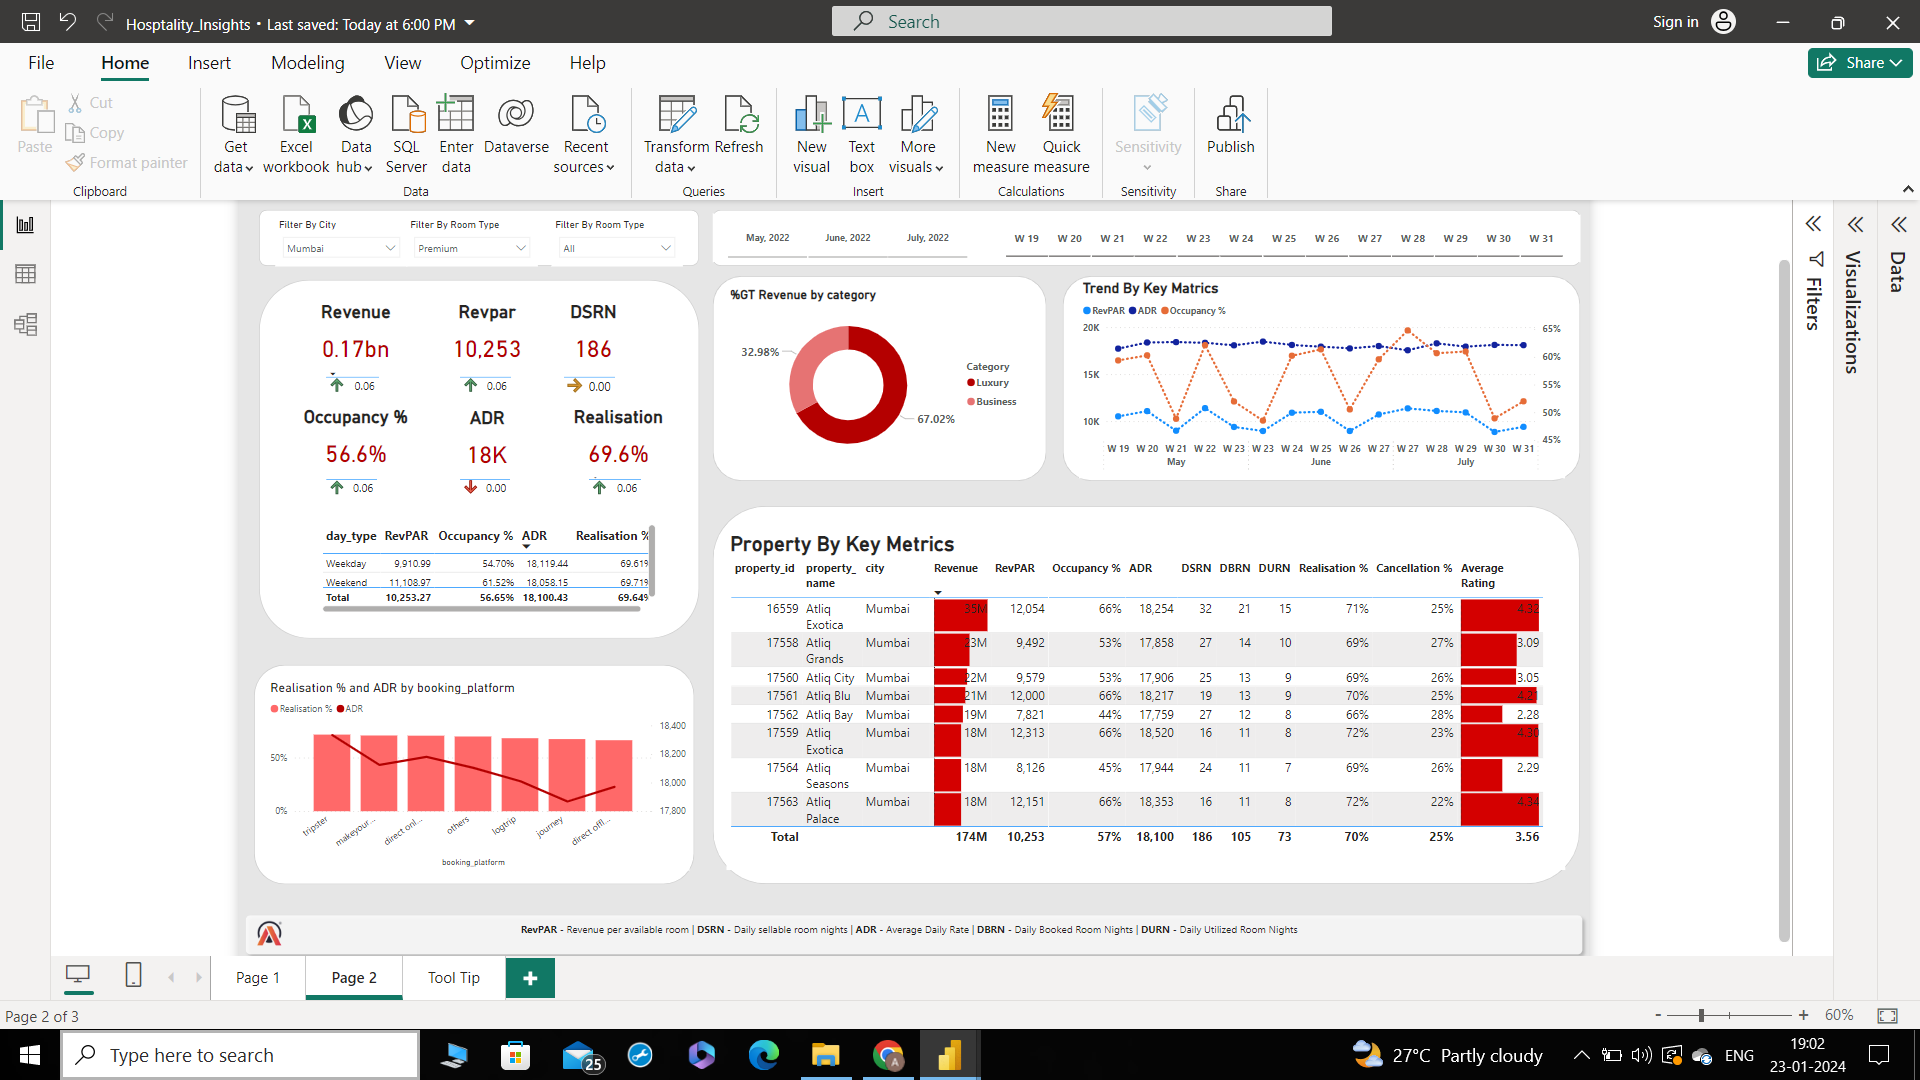

Layout of this report page (visuals, bound fields, positions):
{"tool":"powerbi","page":{"name":"Page 2","canvas":[1800,1100],"ordinal":1},"visuals":[{"type":"shape","box":[0,1016,1800,70],"z":0},{"type":"shape","box":[20,691.4,587.1,292.9],"z":1000},{"type":"shape","box":[632,480,1156,504],"z":2000},{"type":"shape","box":[1098.3,173.3,690,273.3],"z":3000},{"type":"shape","box":[631.7,173.3,445,273.3],"z":4000},{"type":"shape","box":[631.7,85,1156.7,75],"z":5000},{"type":"shape","box":[27.1,178.6,587.1,478.6],"z":6000},{"type":"shape","box":[26.7,85,586.7,75],"z":7000},{"type":"tableEx","title":"Property By Key Metrics","fields":{"Values":["dim_hotels.property_id","dim_hotels.property_name","dim_hotels.city","key_measures (2).Revenue","key_measures (2).RevPAR","key_measures (2).Occupancy %","key_measures (2).ADR","key_measures (2).DSRN","key_measures (2).DBRN","key_measures (2).DURN","key_measures (2).Realisation %","key_measures (2).Cancellation %"]},"box":[650,515.7,1118.6,450],"z":8000},{"type":"slicer","title":"Filter By City","fields":{"Values":["dim_hotels.city"]},"box":[48,96,176,64],"z":9000},{"type":"slicer","title":"Filter By Room Type","fields":{"Values":["dim_rooms.room_class"]},"box":[417,96,175,64],"z":10000},{"type":"slicer","fields":{"Values":["dim_date.mmm yy"]},"box":[631.7,90,358.3,65],"z":11000},{"type":"slicer","fields":{"Values":["dim_date.week no"]},"box":[996.7,91.7,791.7,63.3],"z":12000},{"type":"tableEx","fields":{"Values":["key_measures (2).\"Revenue WoW change %"]},"box":[110.8,281.5,88.5,57.7],"z":13000},{"type":"donutChart","fields":{"Category":["dim_hotels.category"],"Y":["key_measures (2).Revenue"]},"box":[650,188.3,405,241.7],"z":14000},{"type":"lineStackedColumnComboChart","fields":{"Category":["fact_bookings.booking_platform"],"Y":["key_measures (2).Realisation %"],"Y2":["key_measures (2).ADR"]},"box":[37.1,711.4,564.3,254.3],"z":15000},{"type":"lineChart","title":"Trend By Key Matrics","fields":{"Category":["dim_date.mmm yy.Variation.Date Hierarchy.Month","dim_date.week no"],"Y2":["key_measures (2).Occupancy %"],"Y":["key_measures (2).RevPAR","key_measures (2).ADR"]},"box":[1120,178.3,648.3,265],"z":16000},{"type":"tableEx","fields":{"Values":["dim_date.day_type","key_measures (2).RevPAR","key_measures (2).Occupancy %","key_measures (2).ADR","key_measures (2).Realisation %"]},"box":[105,500,455,126.7],"z":17000},{"type":"slicer","title":"Filter By Room Type","fields":{"Values":["dim_rooms.room_class"]},"box":[224,96,175,64],"z":18000},{"type":"image","box":[0,1028,81.3,42.7],"z":20000},{"type":"textbox","box":[345,1029.6,1093.6,39],"z":21000},{"type":"tableEx","fields":{"Values":["key_measures (2).\"DSRN WoW change %"]},"box":[426.9,281.5,88.5,56.2],"z":22000},{"type":"tableEx","fields":{"Values":["key_measures (2).\"Revpar WoW change %"]},"box":[287.7,281.5,89.2,55.4],"z":23000},{"type":"card","title":"DSRN","fields":{"Values":["key_measures (2).DSRN"]},"box":[384.3,206.8,175,95],"z":24000},{"type":"card","title":"Revpar","fields":{"Values":["key_measures (2).RevPAR"]},"box":[242.7,206.5,175,95],"z":25000},{"type":"card","title":"Revenue","fields":{"Values":["key_measures (2).Revenue"]},"box":[67.7,206.5,175,95],"z":26000},{"type":"tableEx","fields":{"Values":["key_measures (2).\"Occupancy WoW change %"]},"box":[110.8,417.7,88.5,57.7],"z":27000},{"type":"card","title":"Occupancy %","fields":{"Values":["key_measures (2).Occupancy %"]},"box":[67.7,347.5,175,95],"z":28000},{"type":"tableEx","fields":{"Values":["key_measures (2).\"ADR WoW change %"]},"box":[287.7,417.7,88.5,57.7],"z":29000},{"type":"tableEx","fields":{"Values":["key_measures (2).\"Revenue WoW change %"]},"box":[460,418.5,88.5,57.7],"z":30000},{"type":"card","title":"ADR","fields":{"Values":["key_measures (2).ADR"]},"box":[242.7,348.5,175,95],"z":31000},{"type":"card","title":"Realisation","fields":{"Values":["key_measures (2).Realisation %"]},"box":[417.7,347.5,175,95],"z":31500}]}

Visuals, with their boxes on the page's 1800x1100 design canvas (x1, y1, x2, y2). These are canvas units, not pixel positions in the 1920x1080 screenshot, which may show the page scaled, cropped or inside an application window:
shape: <region>0, 1016, 1800, 1086</region>
shape: <region>20, 691, 607, 984</region>
shape: <region>632, 480, 1788, 984</region>
shape: <region>1098, 173, 1788, 447</region>
shape: <region>632, 173, 1077, 447</region>
shape: <region>632, 85, 1788, 160</region>
shape: <region>27, 179, 614, 657</region>
shape: <region>27, 85, 613, 160</region>
"Property By Key Metrics" tableEx: <region>650, 516, 1769, 966</region>
"Filter By City" slicer: <region>48, 96, 224, 160</region>
"Filter By Room Type" slicer: <region>417, 96, 592, 160</region>
slicer - dim_date.mmm yy: <region>632, 90, 990, 155</region>
slicer - dim_date.week no: <region>997, 92, 1788, 155</region>
tableEx - key_measures (2)."Revenue WoW change %: <region>111, 282, 199, 339</region>
donutChart - dim_hotels.category x key_measures (2).Revenue: <region>650, 188, 1055, 430</region>
lineStackedColumnComboChart - fact_bookings.booking_platform x key_measures (2).Realisation %: <region>37, 711, 601, 966</region>
"Trend By Key Matrics" lineChart: <region>1120, 178, 1768, 443</region>
tableEx - dim_date.day_type x key_measures (2).RevPAR: <region>105, 500, 560, 627</region>
"Filter By Room Type" slicer: <region>224, 96, 399, 160</region>
image: <region>0, 1028, 81, 1071</region>
textbox: <region>345, 1030, 1439, 1069</region>
tableEx - key_measures (2)."DSRN WoW change %: <region>427, 282, 515, 338</region>
tableEx - key_measures (2)."Revpar WoW change %: <region>288, 282, 377, 337</region>
"DSRN" card: <region>384, 207, 559, 302</region>
"Revpar" card: <region>243, 206, 418, 302</region>
"Revenue" card: <region>68, 206, 243, 302</region>
tableEx - key_measures (2)."Occupancy WoW change %: <region>111, 418, 199, 475</region>
"Occupancy %" card: <region>68, 348, 243, 442</region>
tableEx - key_measures (2)."ADR WoW change %: <region>288, 418, 376, 475</region>
tableEx - key_measures (2)."Revenue WoW change %: <region>460, 418, 548, 476</region>
"ADR" card: <region>243, 348, 418, 444</region>
"Realisation" card: <region>418, 348, 593, 442</region>
